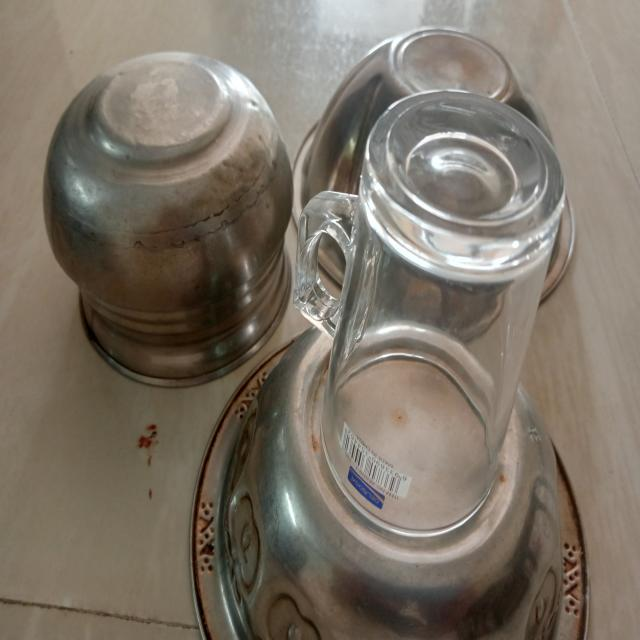glass-VX4N: (290, 83, 565, 540)
